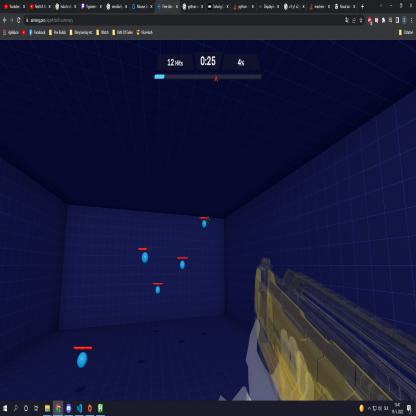sphere: (76, 349, 88, 369), (141, 252, 148, 263), (179, 259, 186, 270), (202, 219, 207, 229), (156, 285, 160, 294)
